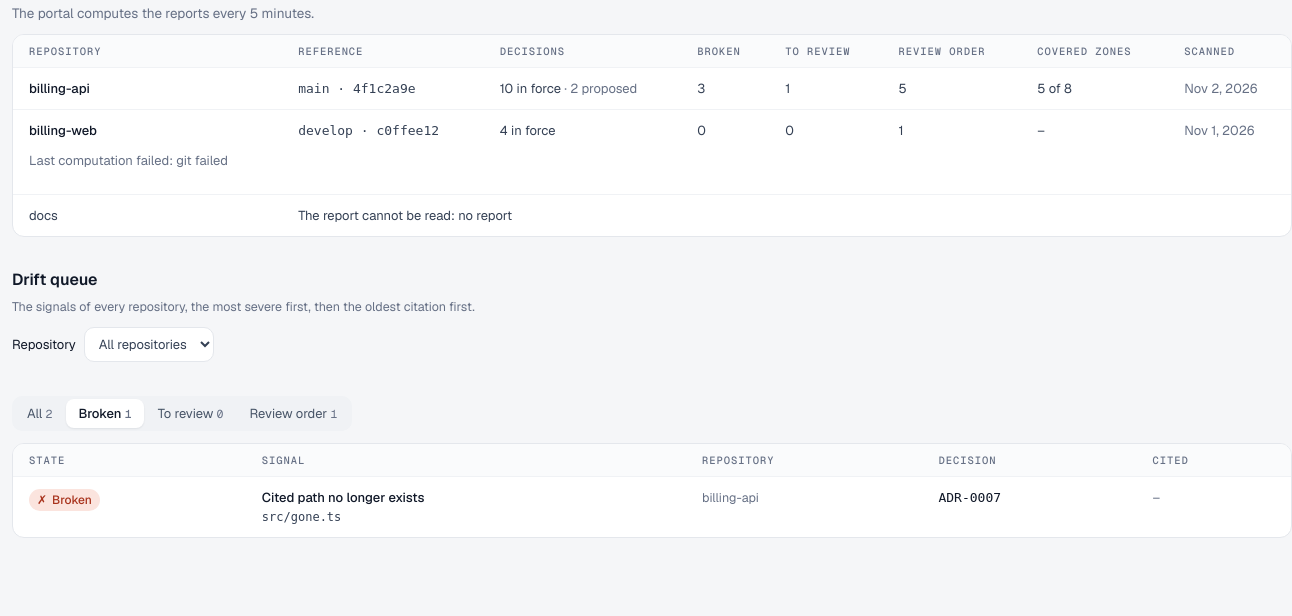
Scenario: OverviewView › filters the queue by level and by repository
Check: the text "src/gone.ts" is shown, box [262,510,341,524]
Check: the text "app/page.tsx" is not shown
Click the tab "All 2".
click(40, 414)  # box [15,399,64,428]
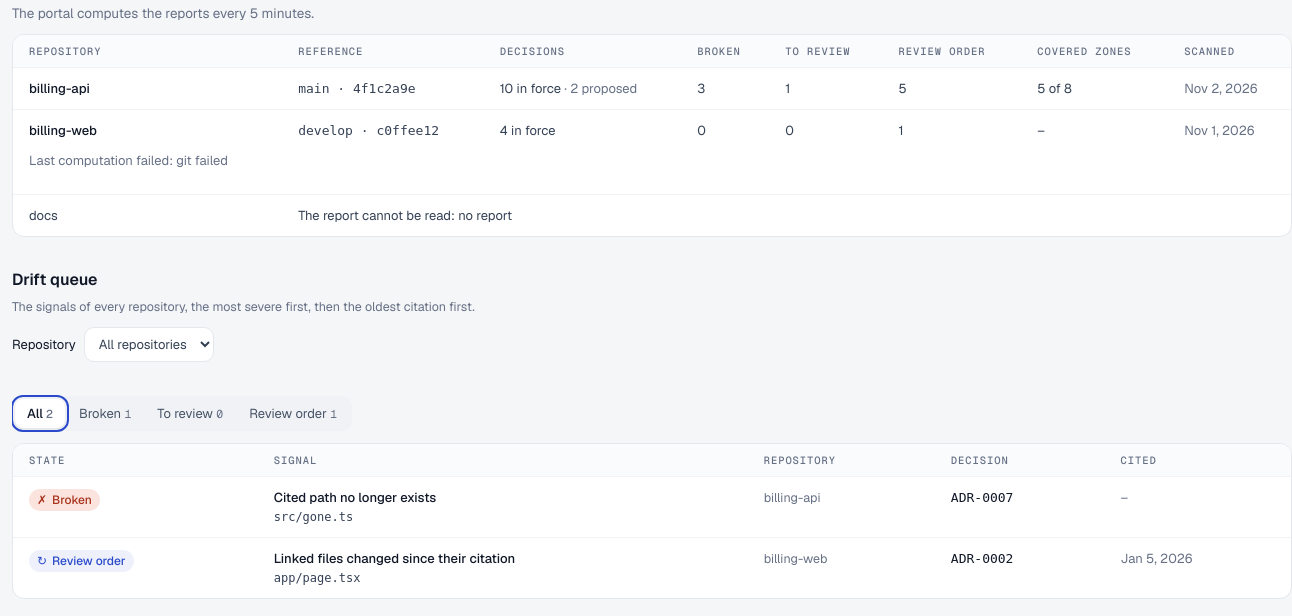
Check: the text "app/page.tsx" is shown, box [274,571,360,585]
Check: the text "Jan 5, 2026" is shown, box [1104,538,1291,598]
Select "billing-web" in the dropdown labelled "Repository" at (149, 344), box [84,327,214,362]
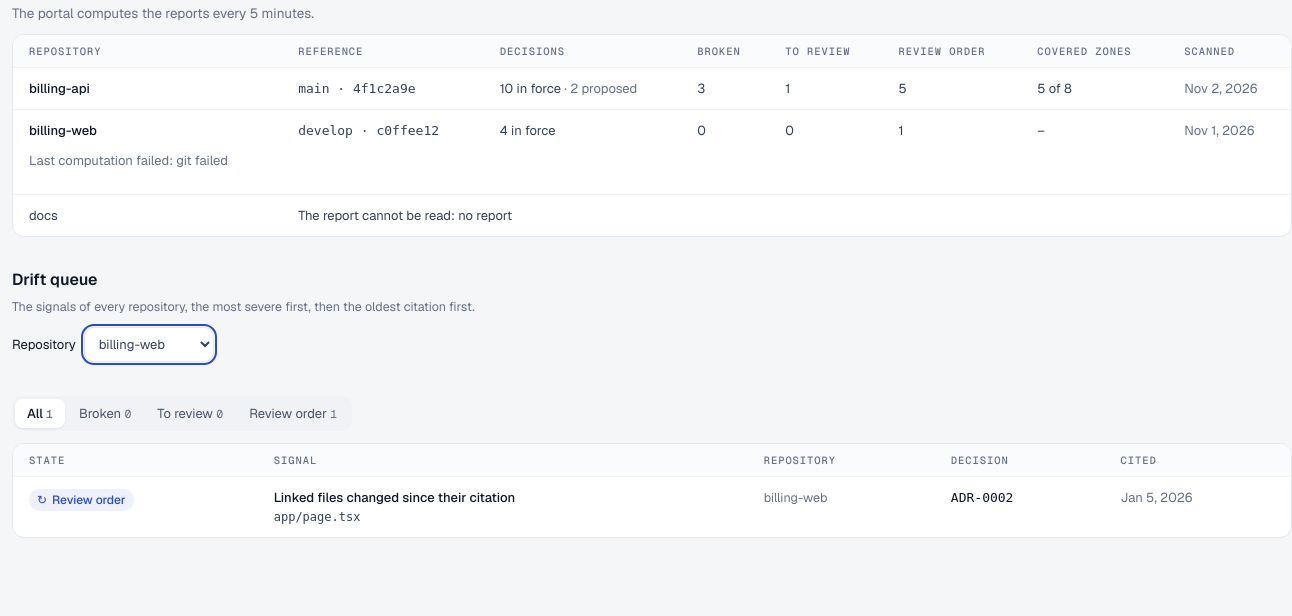
Check: the text "src/gone.ts" is gone
Check: the tab "Broken 0" is shown, box [67,399,143,428]
